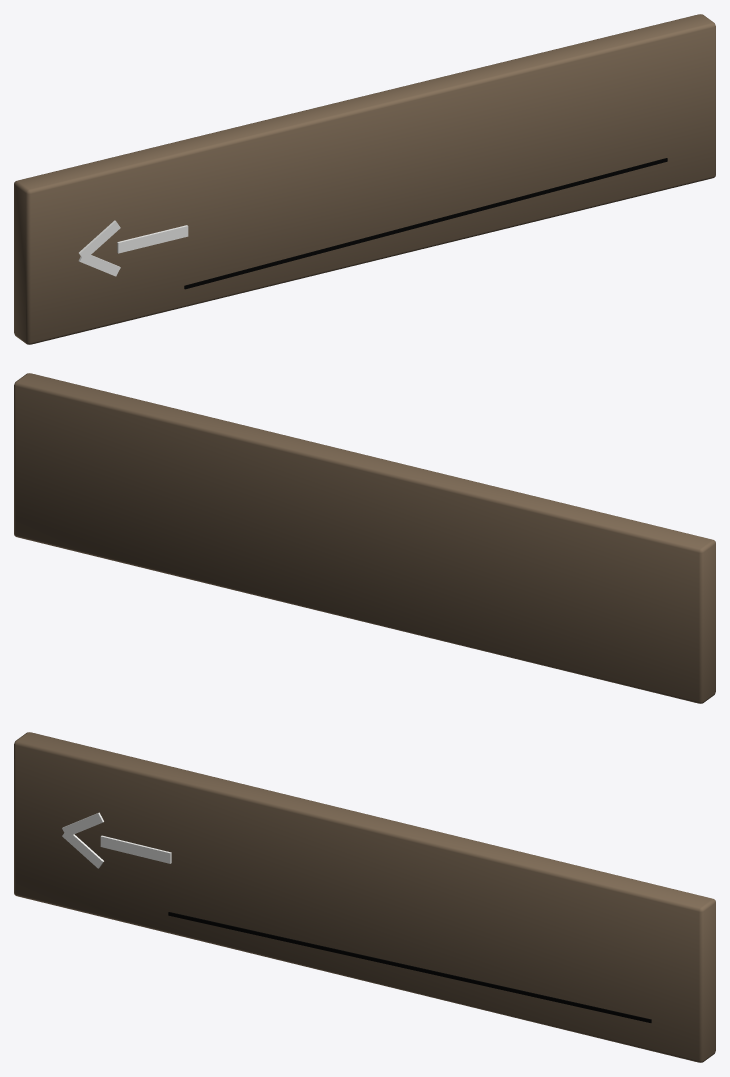
The model's file is low_board_l.glb.
3 renders of one model, top to bottom at view 1: azimuth 30°, elevation 25°; view 2: azimuth 150°, elevation 25°; view 3: azimuth 330°, elevation 25°, orthographic.
Parts seen in each view (by area): view 1: g_signbrown, g_crack, g_whitepaint; view 2: g_signbrown; view 3: g_signbrown, g_crack, g_whitepaint.
Part boxes in pixels (x1=…): g_signbrown: x1=14, y1=14, x2=715, y2=344; g_crack: x1=184, y1=158, x2=667, y2=289; g_whitepaint: x1=78, y1=220, x2=188, y2=276; g_signbrown: x1=14, y1=373, x2=715, y2=703; g_signbrown: x1=14, y1=732, x2=715, y2=1062; g_crack: x1=168, y1=912, x2=651, y2=1022; g_whitepaint: x1=62, y1=812, x2=171, y2=868.
Size of the model in its own units: 1.3 by 0.28 by 0.054.
